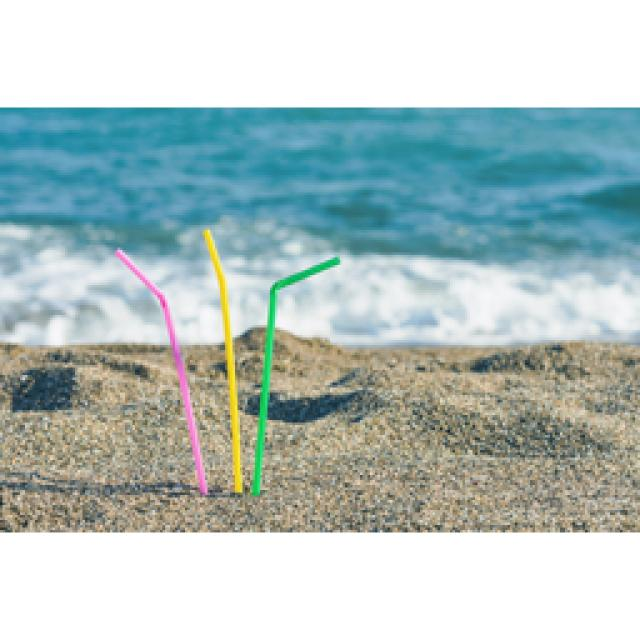plastic: (115, 250, 205, 492), (252, 258, 338, 492), (205, 230, 240, 490)
